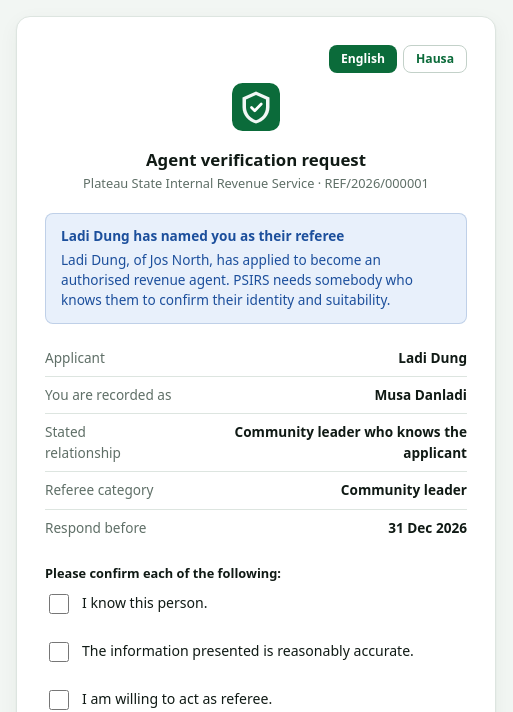
the referee can read the page in Hausa › switches the page when the choice is made
Expected: the text "Please confirm each of the following:" is shown, [45,564,281,582]
Click the button "Hausa".
click(435, 59)  # box [403,45,467,73]
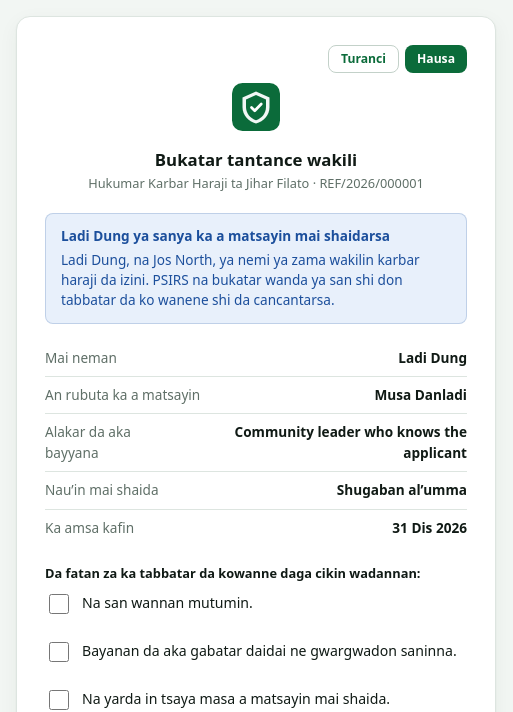
Now the text "Da fatan za ka tabbatar da kowanne daga cikin wadannan:" is shown, box [45,564,467,583]
Now the text "Please confirm each of the following:" is gone
